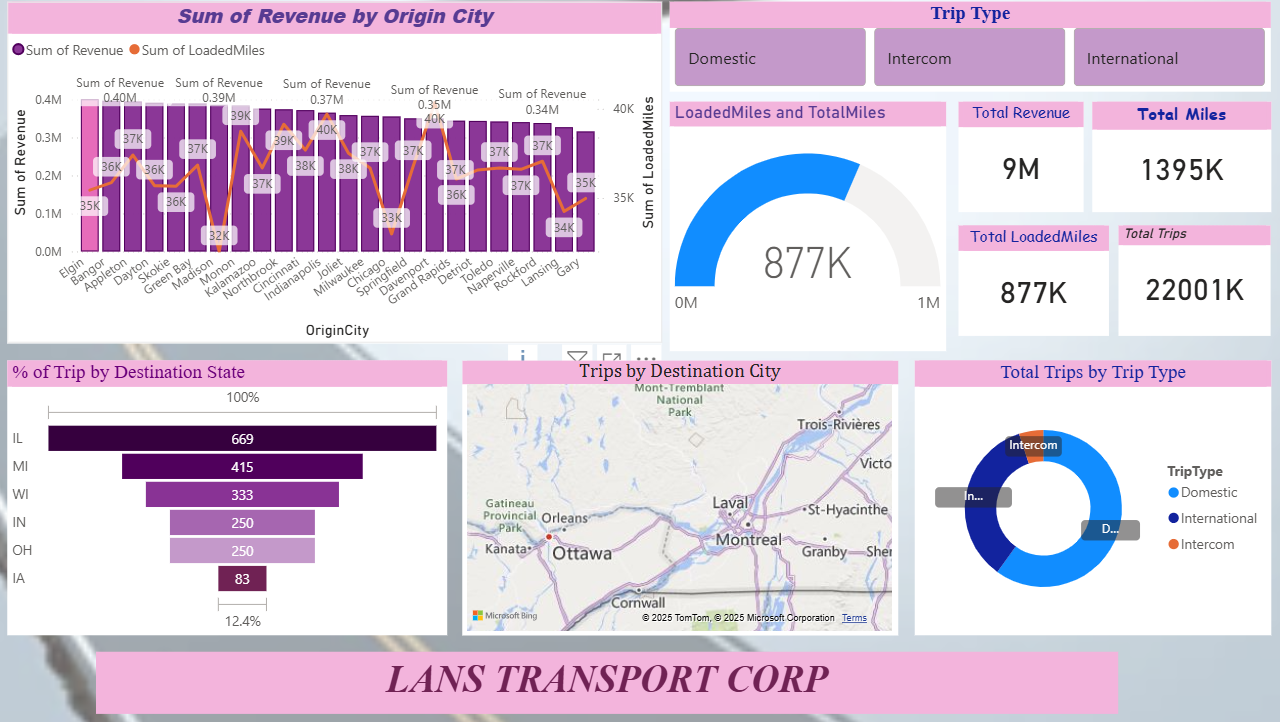

This screenshot's page, from the dashboard's own definition file:
{"tool":"powerbi","page":{"name":"Page 1","canvas":[1280,720],"ordinal":0},"visuals":[{"type":"card","title":"Total Trips","fields":{"Values":["Sum(Trips.TripID)"]},"box":[1118,228,149,108],"z":0},{"type":"lineStackedColumnComboChart","title":"Sum of Revenue by Origin City","fields":{"Category":["Trips.OriginCity"],"Y":["Sum(Trips.Revenue)"],"Y2":["Sum(Trips.LoadedMiles)"]},"box":[31,9,640,334],"z":1000},{"type":"card","title":"Total Revenue","fields":{"Values":["Sum(Trips.Revenue)"]},"box":[961,106,122,108],"z":3000},{"type":"card","title":"Total Miles","fields":{"Values":["Sum(Trips.TotalMiles)"]},"box":[1092,106,175,108],"z":4000},{"type":"card","title":"Total LoadedMiles","fields":{"Values":["Sum(Trips.LoadedMiles)"]},"box":[961,228,147,108],"z":5000},{"type":"map","title":"Trips by Destination City","fields":{"Category":["Trips.DestinationCity"],"Size":["CountNonNull(Trips.TripID)"]},"box":[476,360,426,269],"z":6000},{"type":"donutChart","title":"Total Trips by Trip Type","fields":{"Category":["Trips.TripType"],"Y":["CountNonNull(Trips.TripID)"]},"box":[918,360,349,269],"z":6500},{"type":"funnel","title":"%  of Trip by Destination State","fields":{"Category":["Trips.DestinationState"],"Y":["CountNonNull(Trips.TripID)"]},"box":[31,360,430,269],"z":6501},{"type":"gauge","title":"LoadedMiles and TotalMiles","fields":{"MaxValue":["Sum(Trips.TotalMiles)"],"Y":["Sum(Trips.LoadedMiles)"]},"box":[679,106,270,244],"z":6502},{"type":"textbox","box":[118,644,1000,61],"z":6503},{"type":"advancedSlicerVisual","title":"Trip Type","fields":{"Values":["Trips.TripType"]},"box":[679,9,588,88],"z":6504}]}

Visuals, with their boxes in screenshot pixels (x1, y1, x2, y2), scaled from the page's 1280x720 canvas onto the 1280x722 screenshot:
"Total Trips" card: Rect(1118, 229, 1267, 337)
"Sum of Revenue by Origin City" lineStackedColumnComboChart: Rect(31, 9, 671, 344)
"Total Revenue" card: Rect(961, 106, 1083, 215)
"Total Miles" card: Rect(1092, 106, 1267, 215)
"Total LoadedMiles" card: Rect(961, 229, 1108, 337)
"Trips by Destination City" map: Rect(476, 361, 902, 631)
"Total Trips by Trip Type" donutChart: Rect(918, 361, 1267, 631)
"%  of Trip by Destination State" funnel: Rect(31, 361, 461, 631)
"LoadedMiles and TotalMiles" gauge: Rect(679, 106, 949, 351)
textbox: Rect(118, 646, 1118, 707)
"Trip Type" advancedSlicerVisual: Rect(679, 9, 1267, 97)
